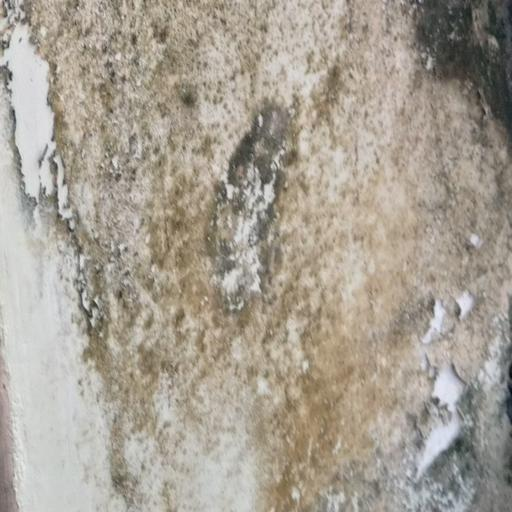algae: (109, 0, 512, 498)
